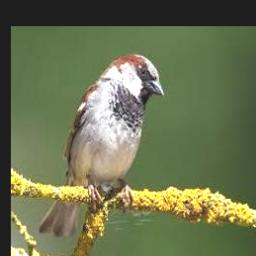Sparrow: (39, 52, 165, 236)
